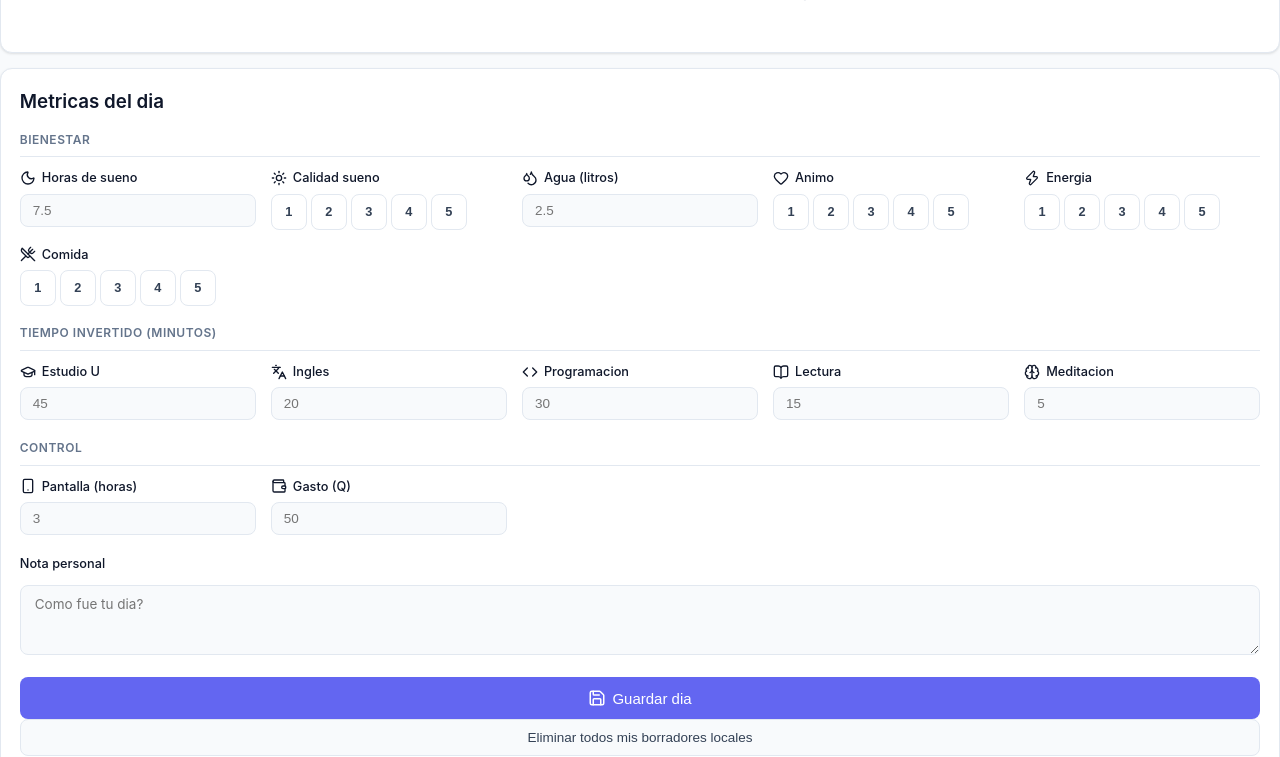
Test: Today draft save lifecycle › removes the exact draft after a successful save
(page scrolled)
In the text box with placeholder "Como fue tu dia?": (640, 620) [20,585,1260,655], type "guardado"
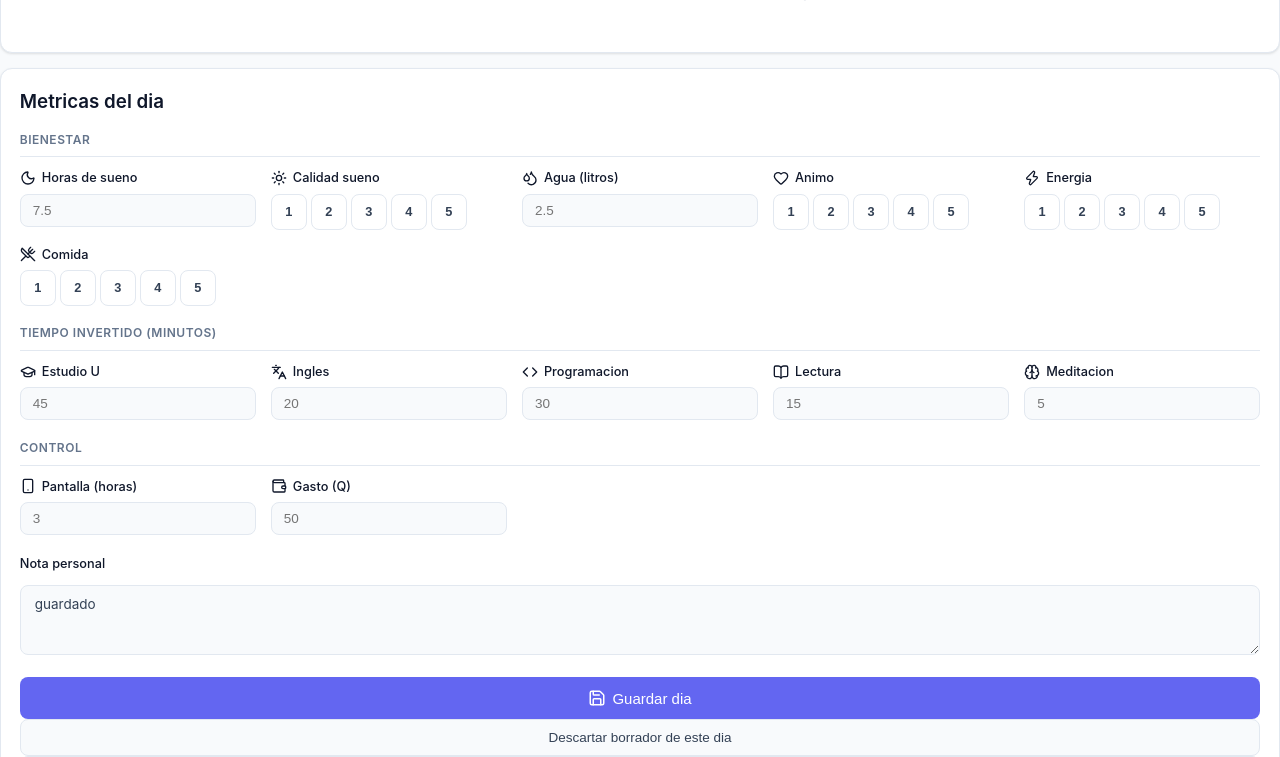
Click the button "Guardar dia": (640, 698) [20,677,1260,719]
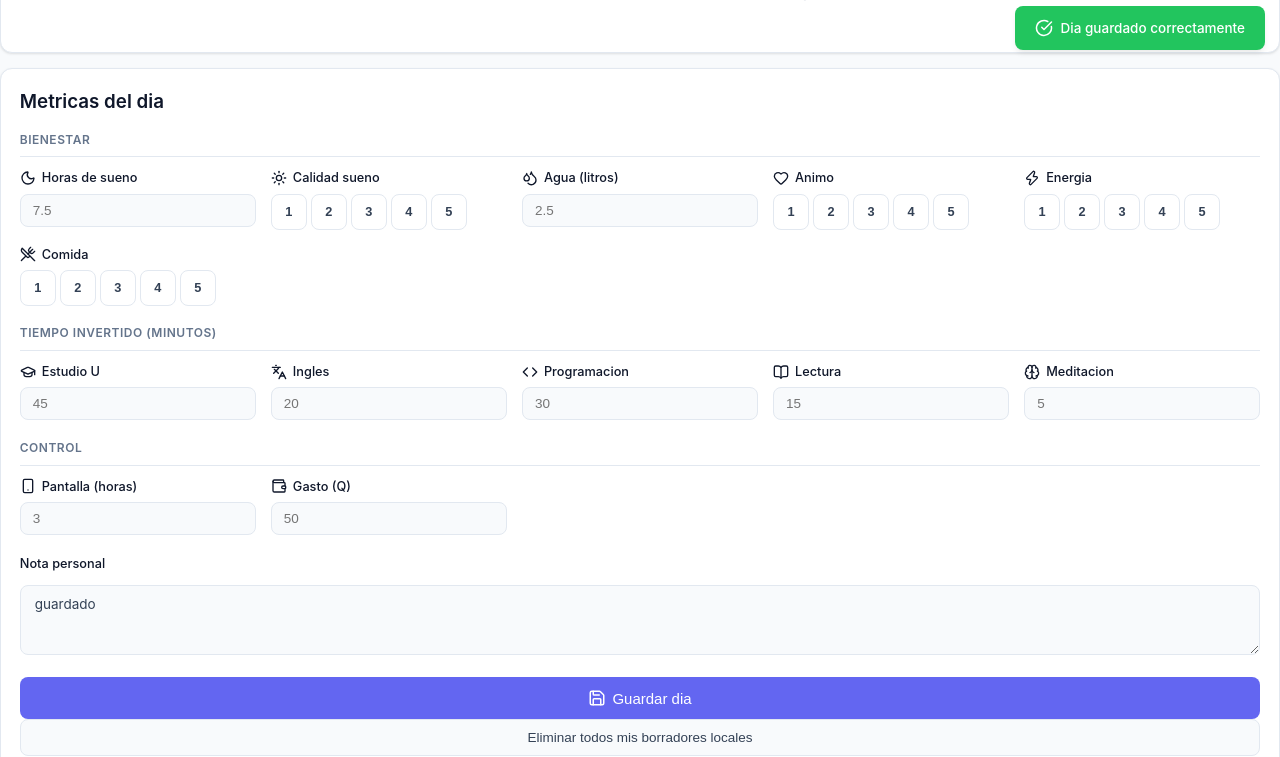
Expected: the text "Dia guardado correctamente" is shown, [1015,6,1265,50]
